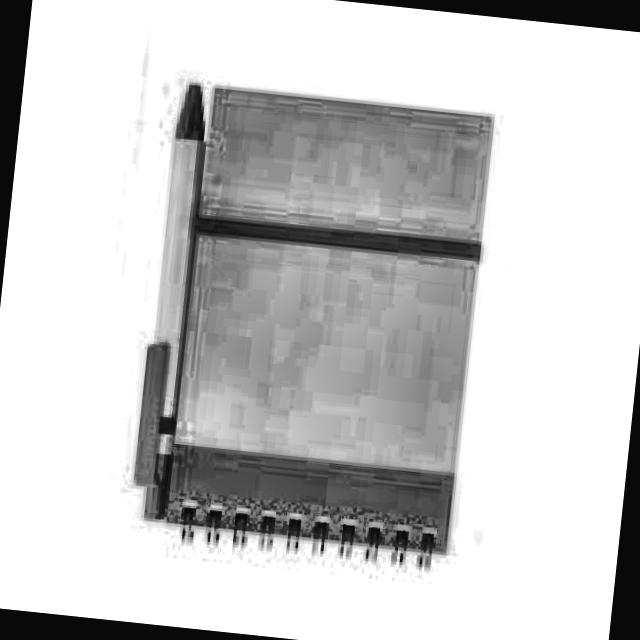Notebook: (154, 61, 514, 588)
Pen: (105, 67, 218, 530)
